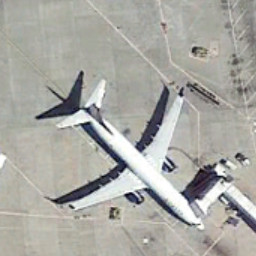Airplane: (34, 65, 216, 242)
